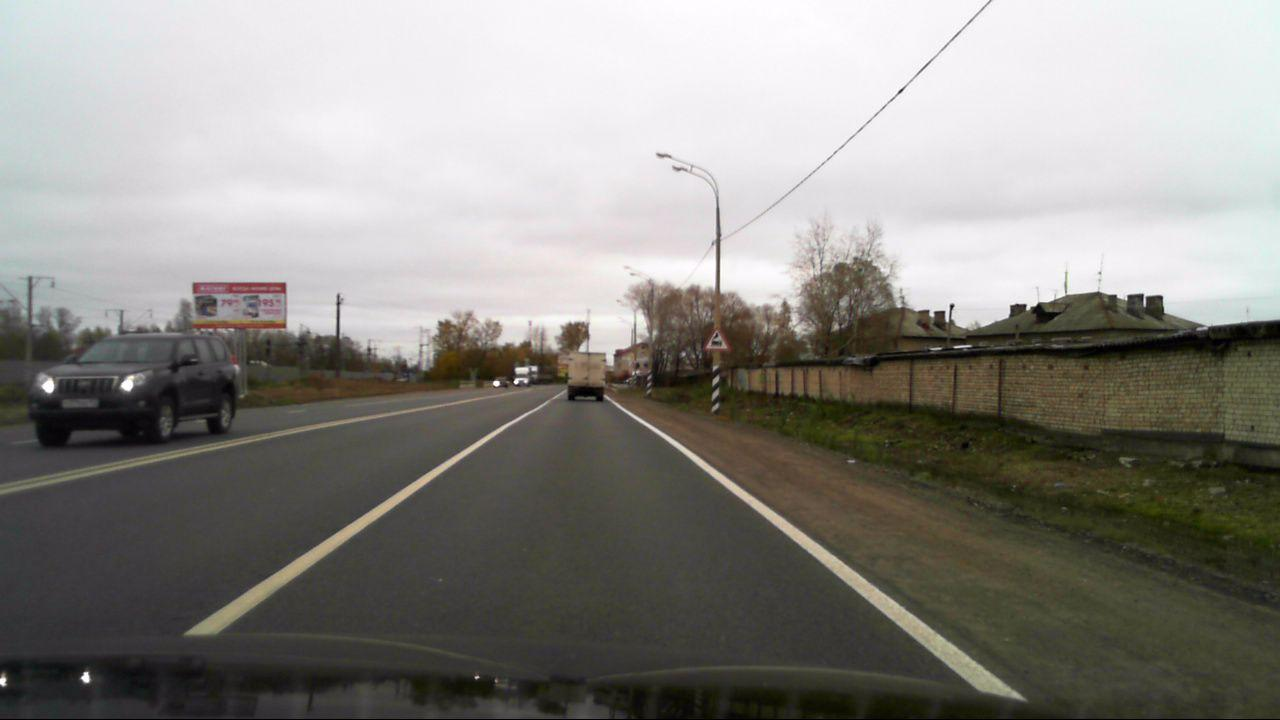1_2: (705, 326, 731, 352)
